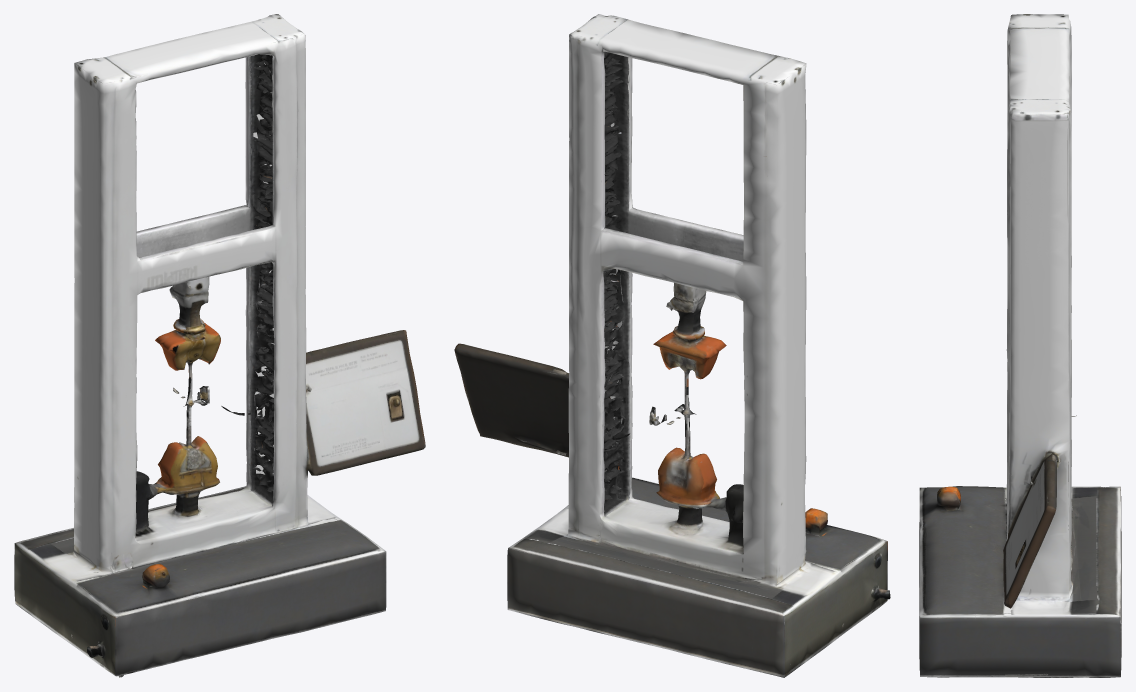
File: reda.glb
3 views of the same model, side by side, from view 1: azimuth 30°, elevation 25°; view 2: azimuth 150°, elevation 25°; view 3: azimuth 270°, elevation 25° (orthographic). The views are drawn at different scales.
Size of the model in its own units: 1.37 by 1.98 by 0.651.
1 material, 1 textured.
